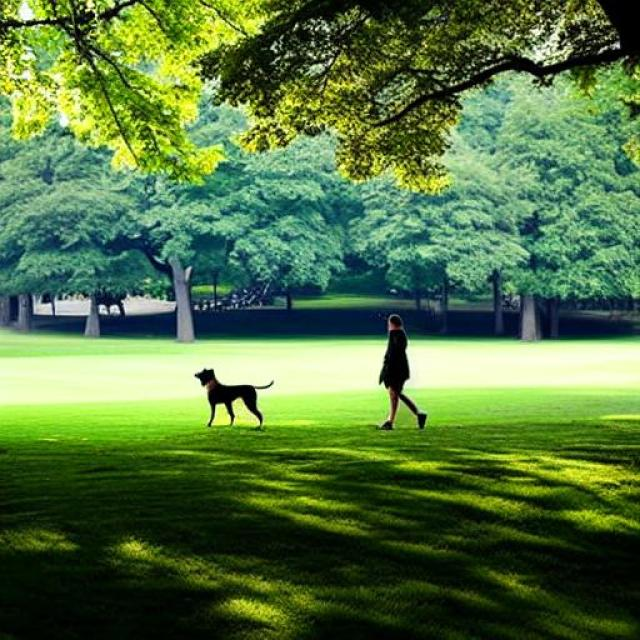Unleashed_Dog: (194, 356, 404, 429)
